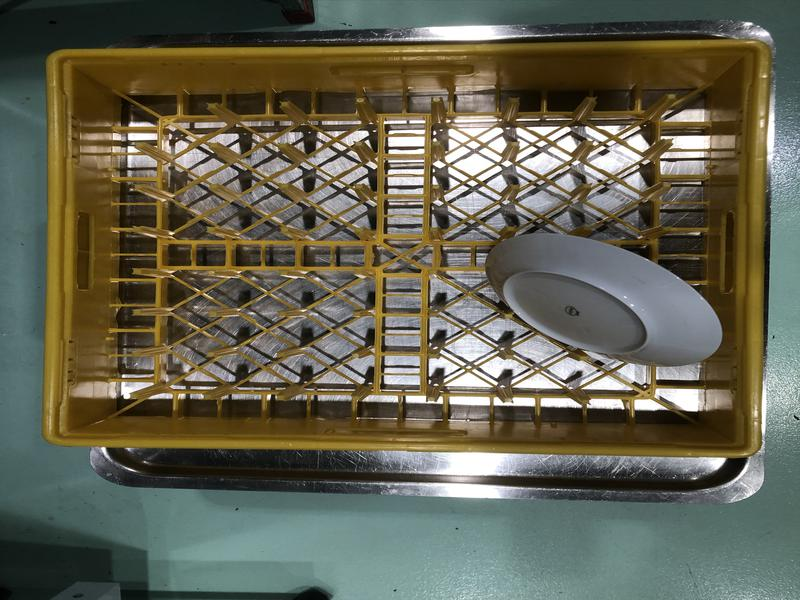Inclined_dish: (485, 233, 722, 367)
